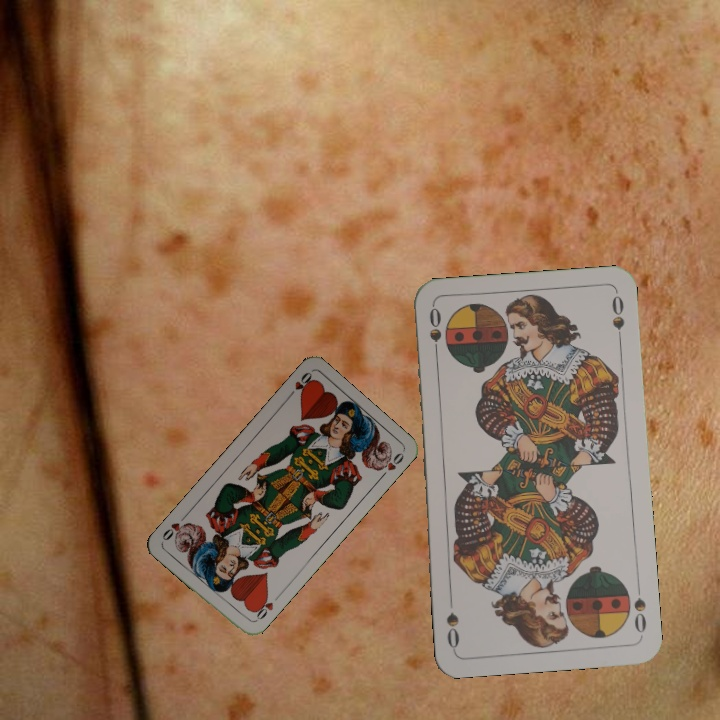HO: (283, 368, 316, 402), (249, 591, 282, 624)
SO: (629, 579, 649, 636), (425, 303, 444, 362)
